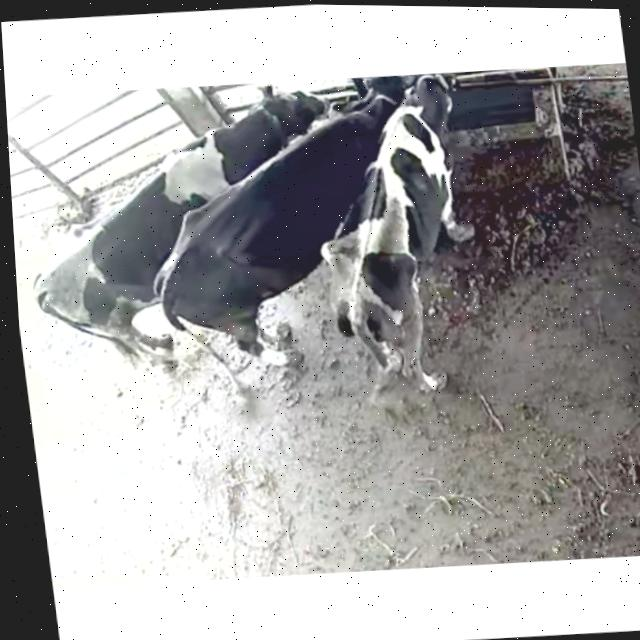drink: (381, 68, 483, 161), (321, 73, 410, 165)
